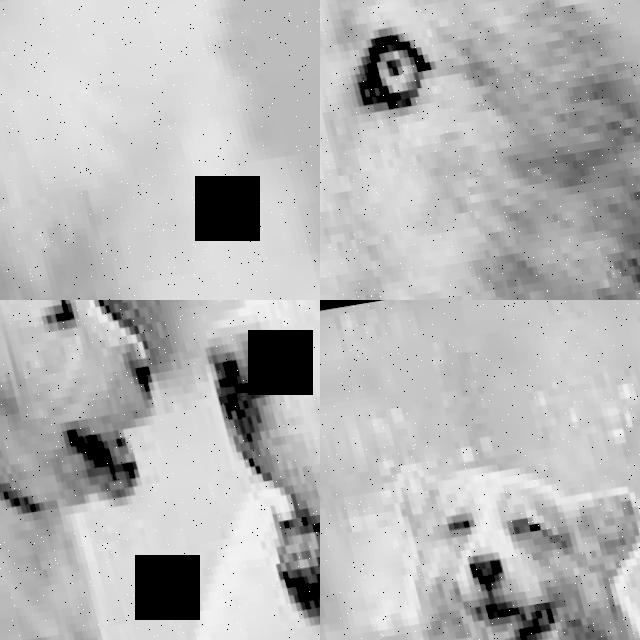dog: (25, 300, 320, 640), (0, 300, 292, 640), (0, 0, 320, 300), (320, 367, 640, 640)
wolf: (320, 0, 640, 300)
